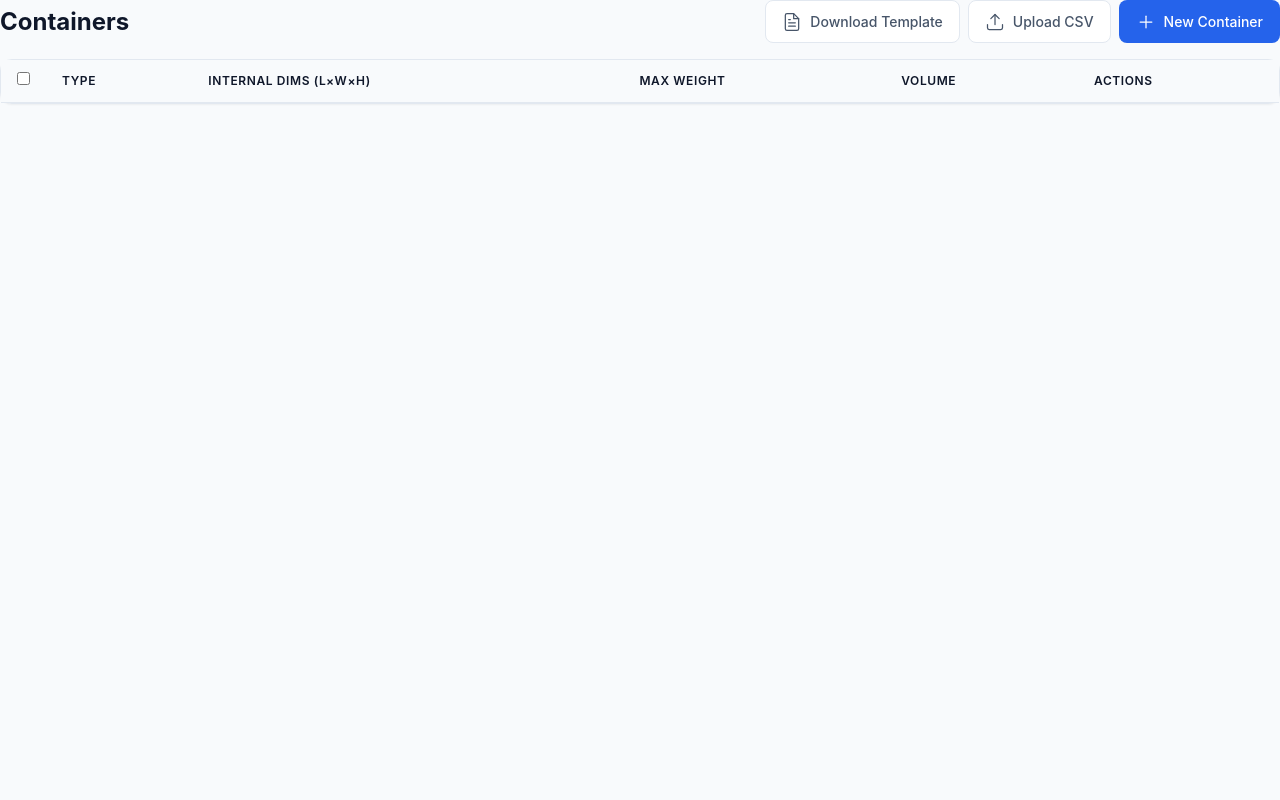
it: + New Modal (Section 6.4 - FE-17 to FE-19) › Container + New Modal › FE-18: Container modal stays open on validation error
Click the button "New Container" at [1199, 22], box [1119,0,1279,43]
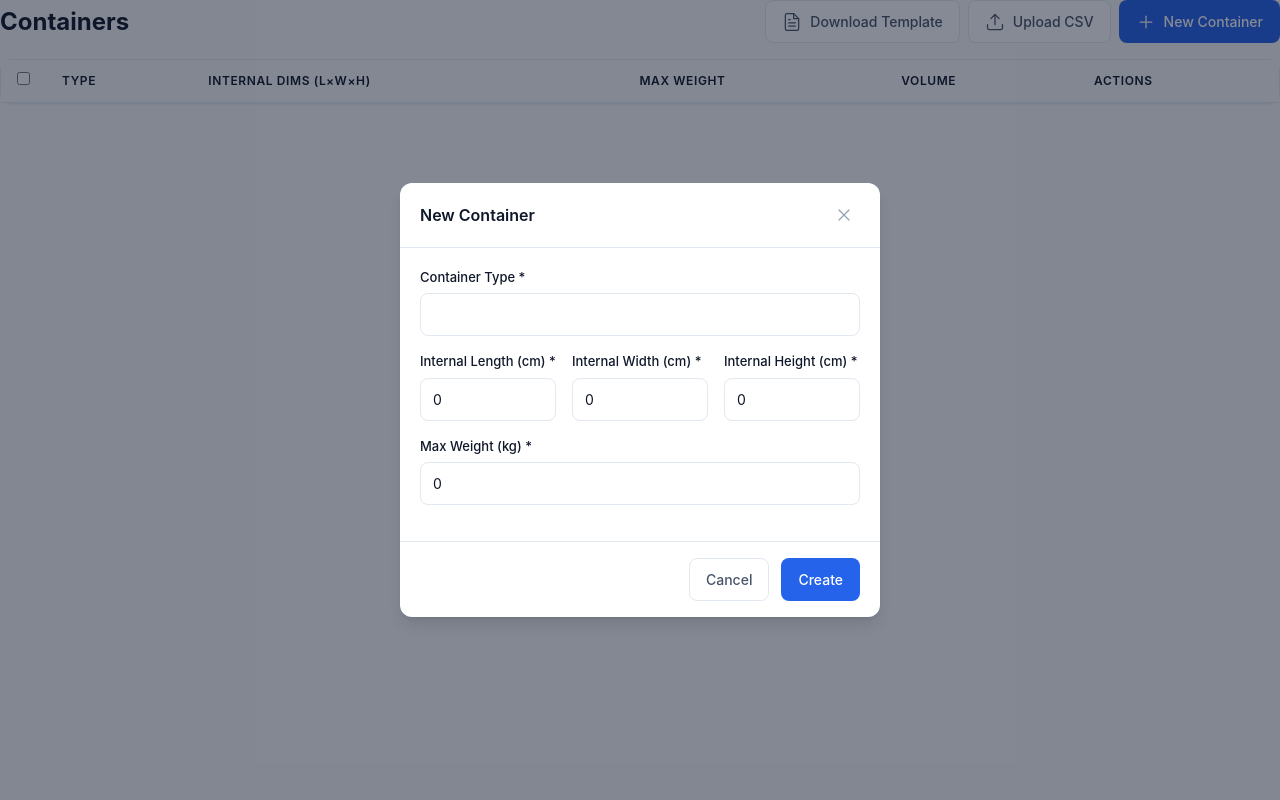
Check: the dialog is shown, box [400,183,880,617]
Type "TEST-CTN" into the field labelled "Container Type *" at [640, 315], box [420,293,860,336]
Replace the text in the number field labelled "Internal Length (cm) *" with "-10" at [488, 399], box [420,378,556,421]
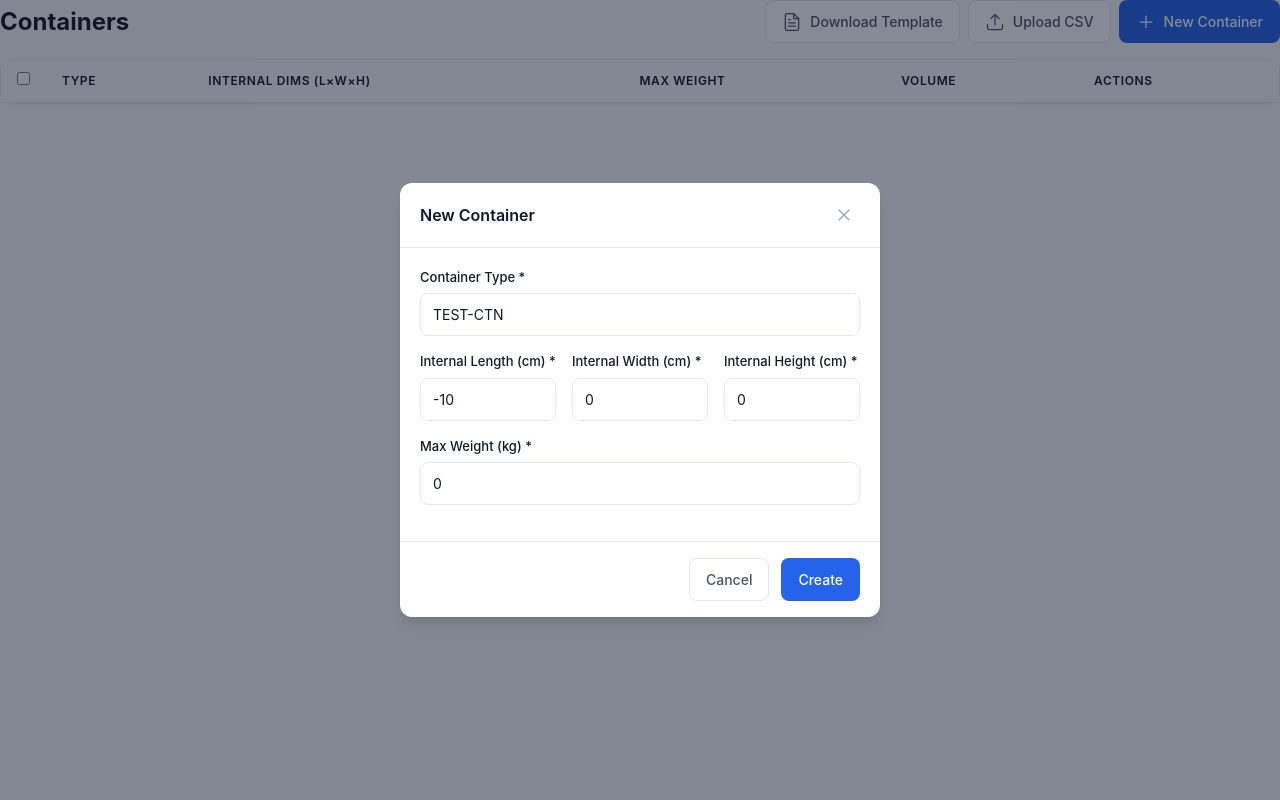
Replace the text in the number field labelled "Internal Width (cm) *" with "235" at [640, 399], box [572,378,708,421]
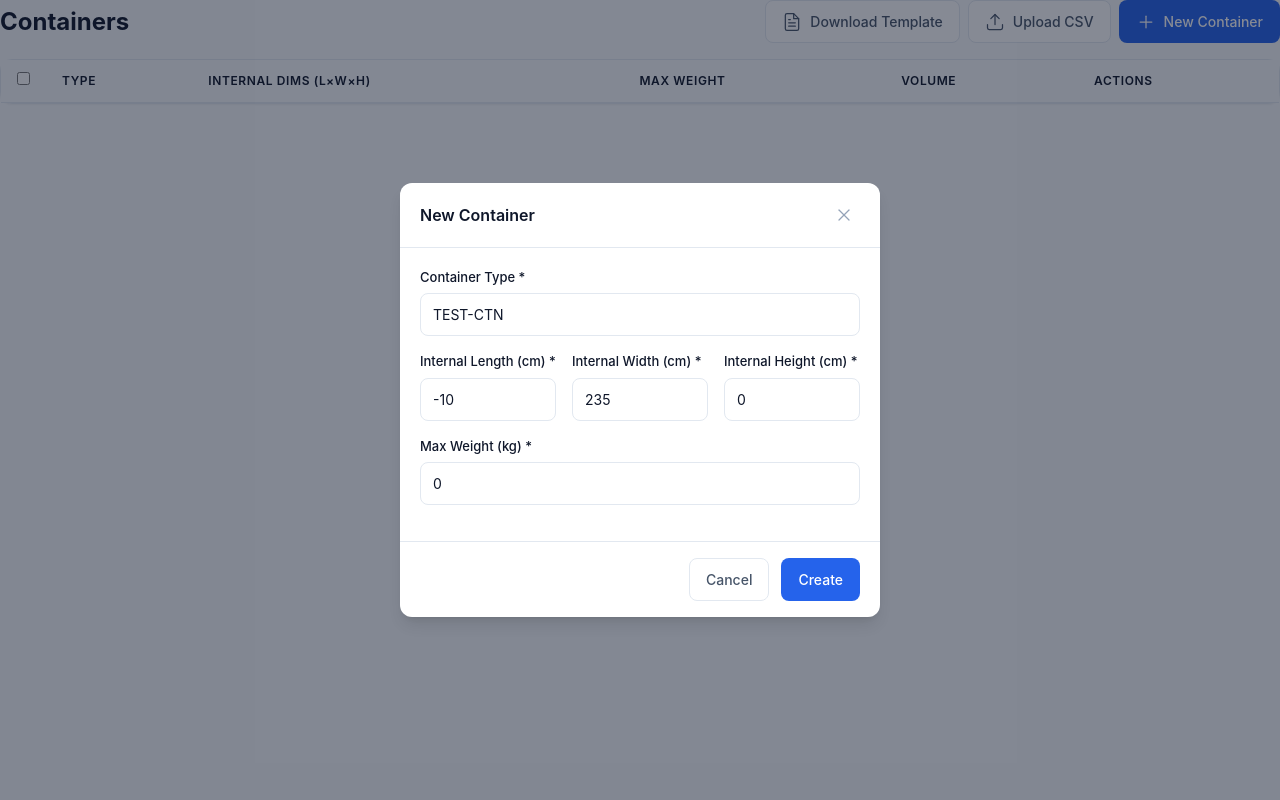
Replace the text in the number field labelled "Internal Height (cm) *" with "270" at [792, 399], box [724,378,860,421]
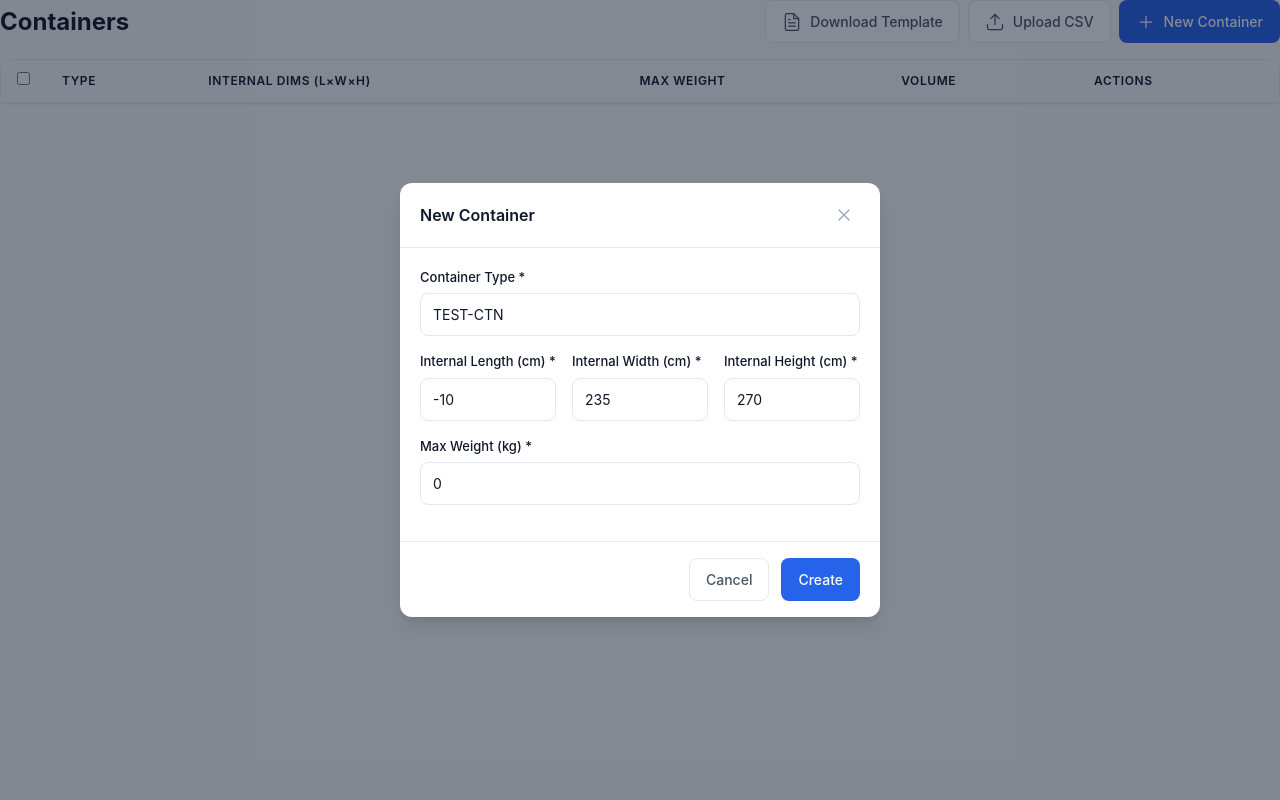
Replace the text in the number field labelled "Max Weight (kg) *" with "28000" at [640, 484], box [420,462,860,505]
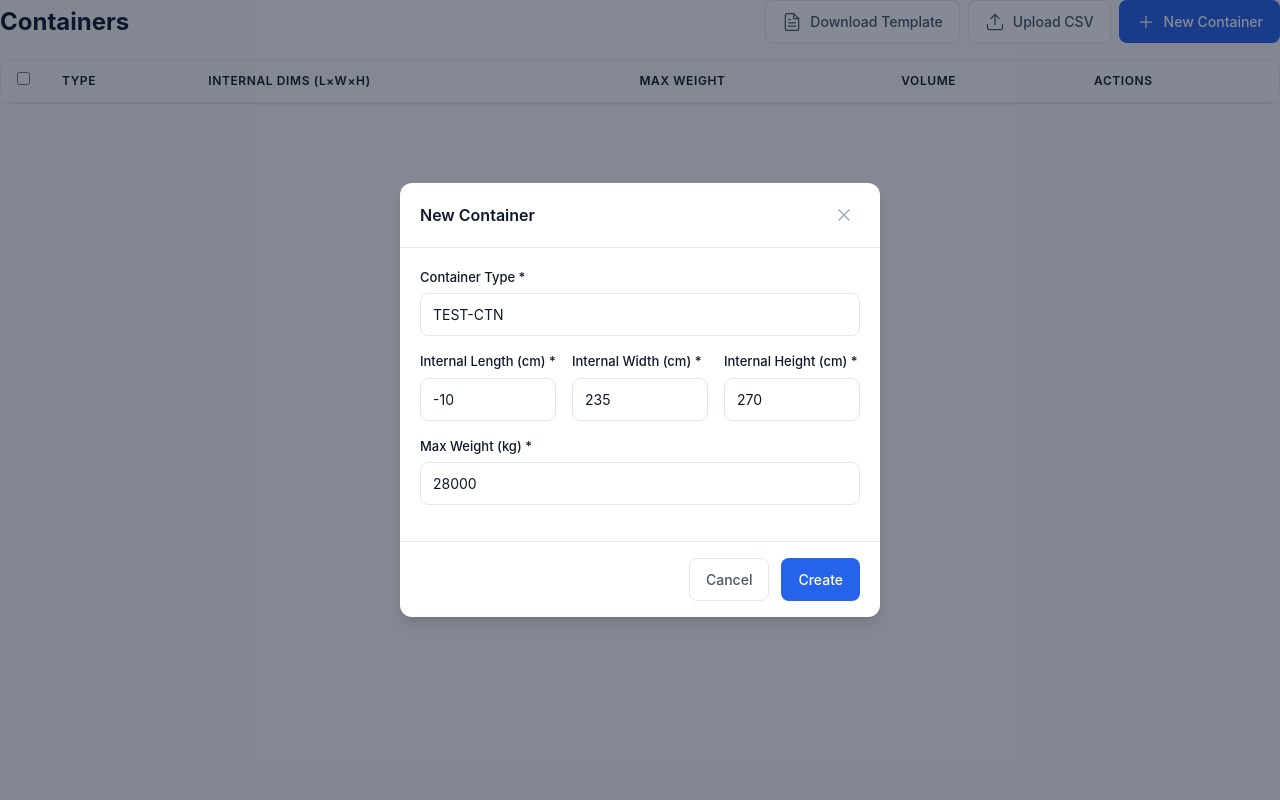
Click the button "Create" at [821, 580], box [781,558,860,601]
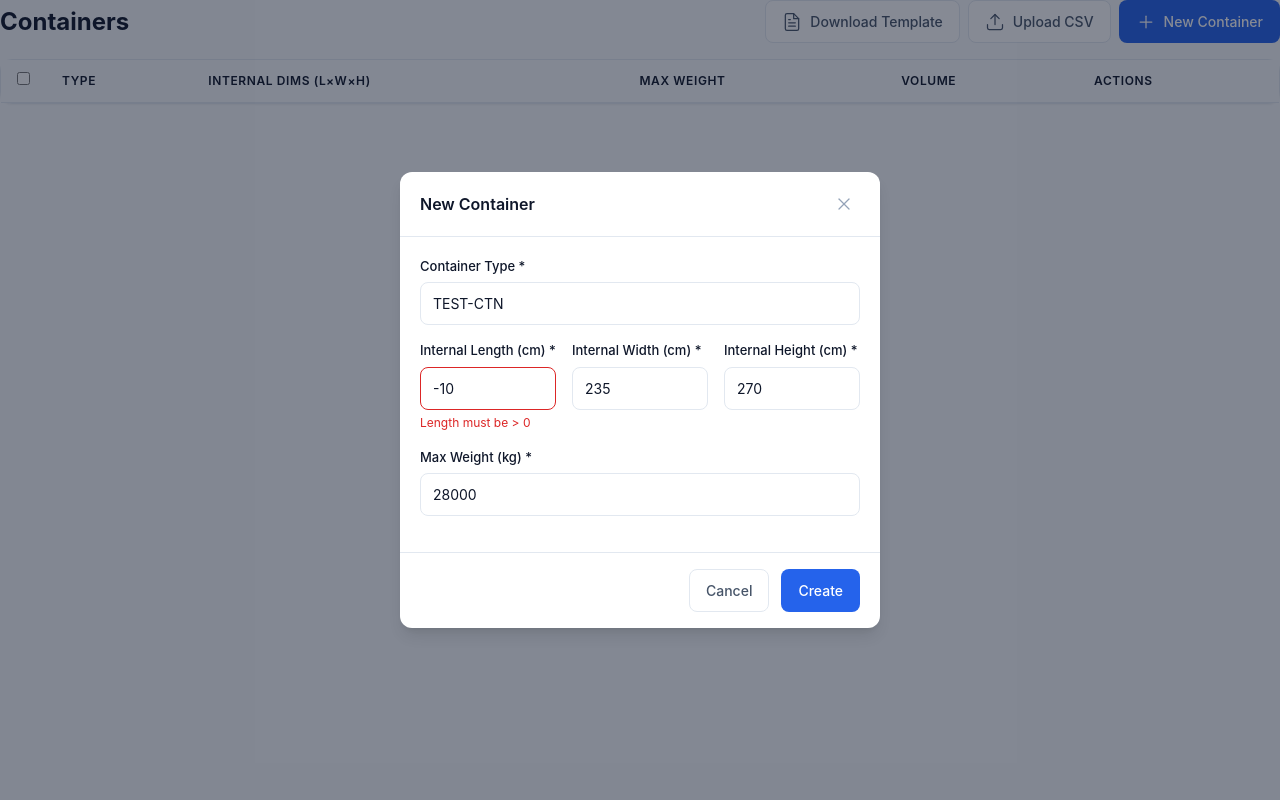
Check: the dialog is shown, box [400,172,880,628]
Check: the text "Length must be > 0" is shown, box [420,415,530,430]
